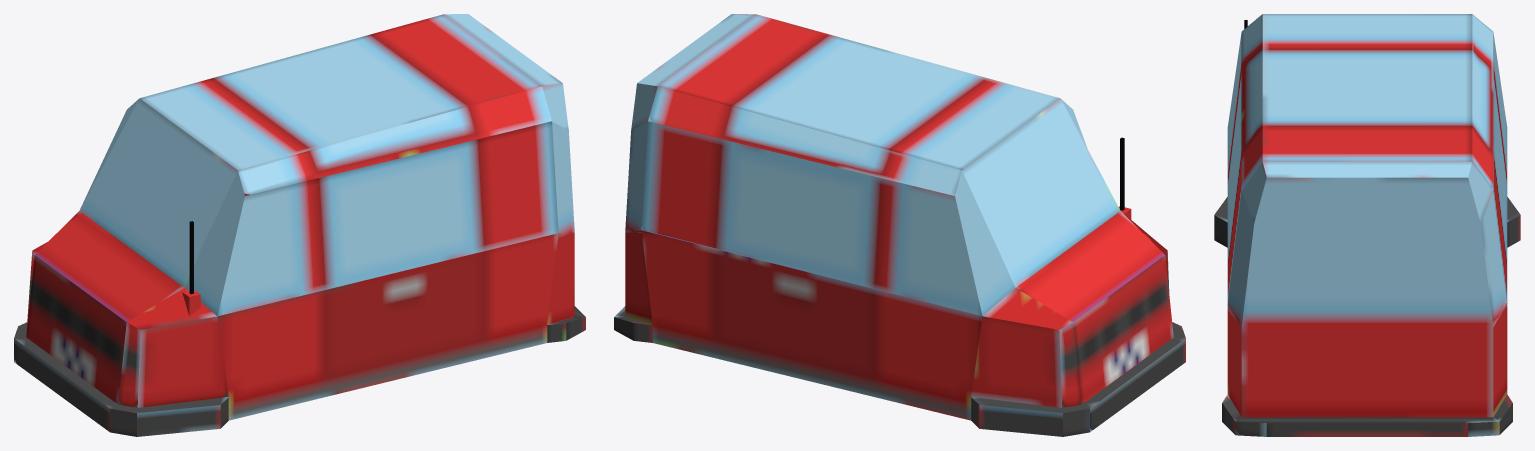
Rendered from car.obj.
3 views of the same model, side by side, from view 1: azimuth 30°, elevation 25°; view 2: azimuth 150°, elevation 25°; view 3: azimuth 270°, elevation 25° (orthographic). The views are drawn at different scales.
Visible parts, largest first — view 1: cube; view 2: cube; view 3: cube.
Boxes of the visible parts, left/top/right/bottom form: cube: left=14, top=14, right=585, bottom=436; cube: left=614, top=14, right=1185, bottom=436; cube: left=1214, top=14, right=1520, bottom=436.
Bounding box in the file's own units: 2.56 × 1.27 × 1.37.
